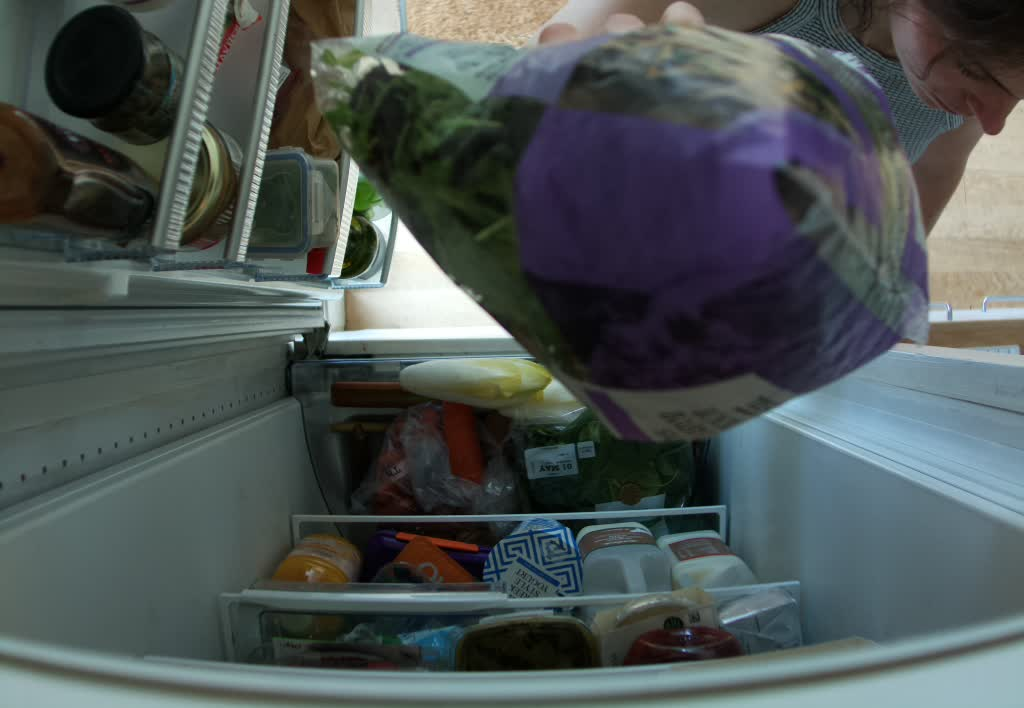salad: (310, 24, 931, 445), (512, 412, 694, 512), (396, 357, 556, 410)
